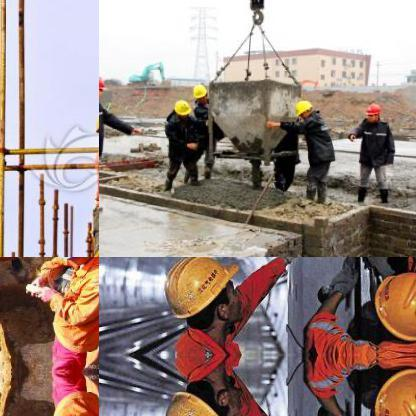Helmet: (157, 257, 246, 329), (365, 267, 415, 340), (156, 378, 246, 415), (365, 368, 415, 415), (50, 257, 99, 269), (290, 96, 314, 118), (170, 96, 188, 120), (364, 100, 380, 124), (191, 82, 207, 102), (99, 71, 106, 101)
